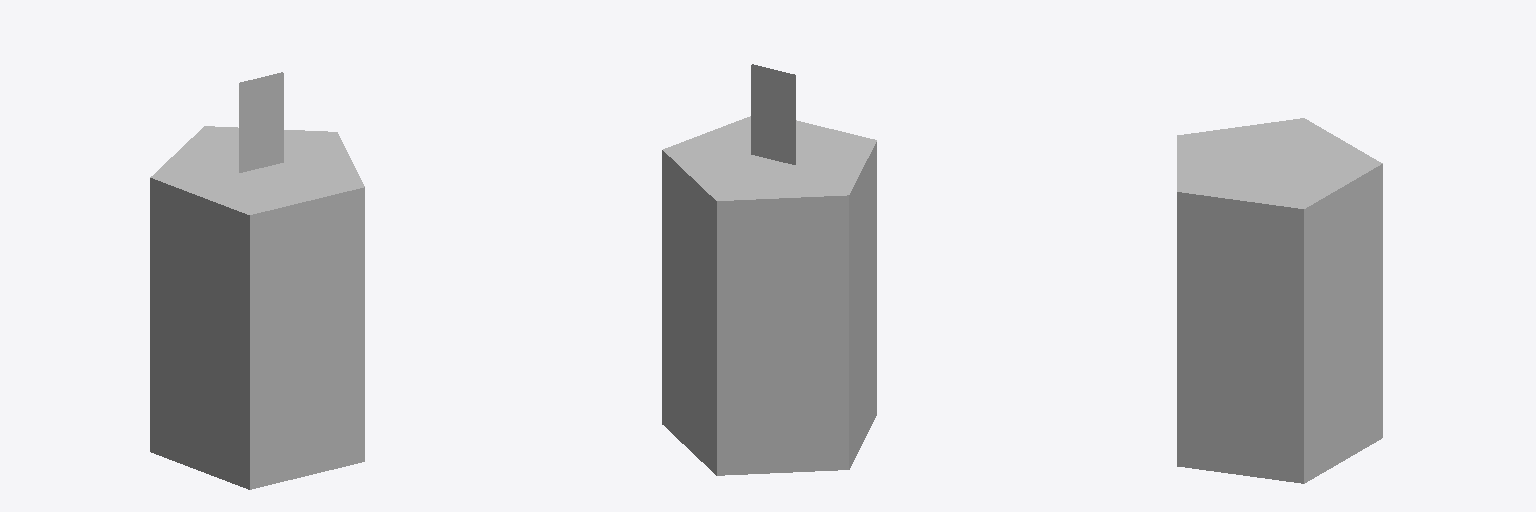
Rendered from candle.obj.
3 views of the same model, side by side, from view 1: azimuth 30°, elevation 25°; view 2: azimuth 150°, elevation 25°; view 3: azimuth 270°, elevation 25° (orthographic).
Visible parts, largest first — view 1: Cylinder; view 2: Cylinder; view 3: Cylinder.
Part boxes in pixels (x1,y1,x2,y2): Cylinder: (150,72,364,489); Cylinder: (662,64,876,475); Cylinder: (1177,118,1382,483).
Size of the model in its own units: 0.0713 by 0.1327 by 0.0678.